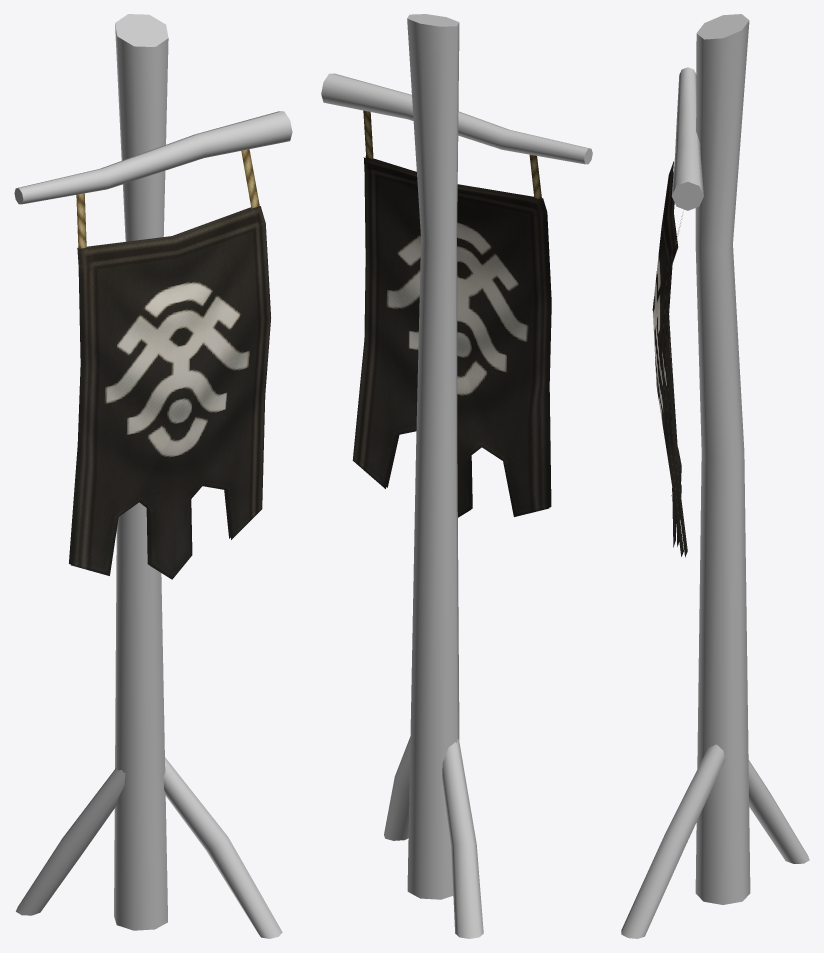
Rendered from SV_AFT_qizhi_2.FBX.
The picture shows the model from 3 angles, left to right: view 1: azimuth 30°, elevation 25°; view 2: azimuth 150°, elevation 25°; view 3: azimuth 270°, elevation 25°; orthographic projection. The views are drawn at different scales.
Parts seen in each view (by area): view 1: SV_AFT_qigan_2, SV_AFT_qigan_0; view 2: SV_AFT_qigan_0, SV_AFT_qigan_2; view 3: SV_AFT_qigan_0, SV_AFT_qigan_2.
Part boxes in pixels (left/top/right/bottom): SV_AFT_qigan_2: left=69, top=149, right=270, bottom=579; SV_AFT_qigan_0: left=14, top=14, right=292, bottom=938; SV_AFT_qigan_0: left=321, top=14, right=592, bottom=938; SV_AFT_qigan_2: left=352, top=110, right=551, bottom=517; SV_AFT_qigan_0: left=621, top=14, right=809, bottom=938; SV_AFT_qigan_2: left=652, top=161, right=687, bottom=557.
Bounding box in the file's own units: 1.27 × 4.09 × 0.7992.
